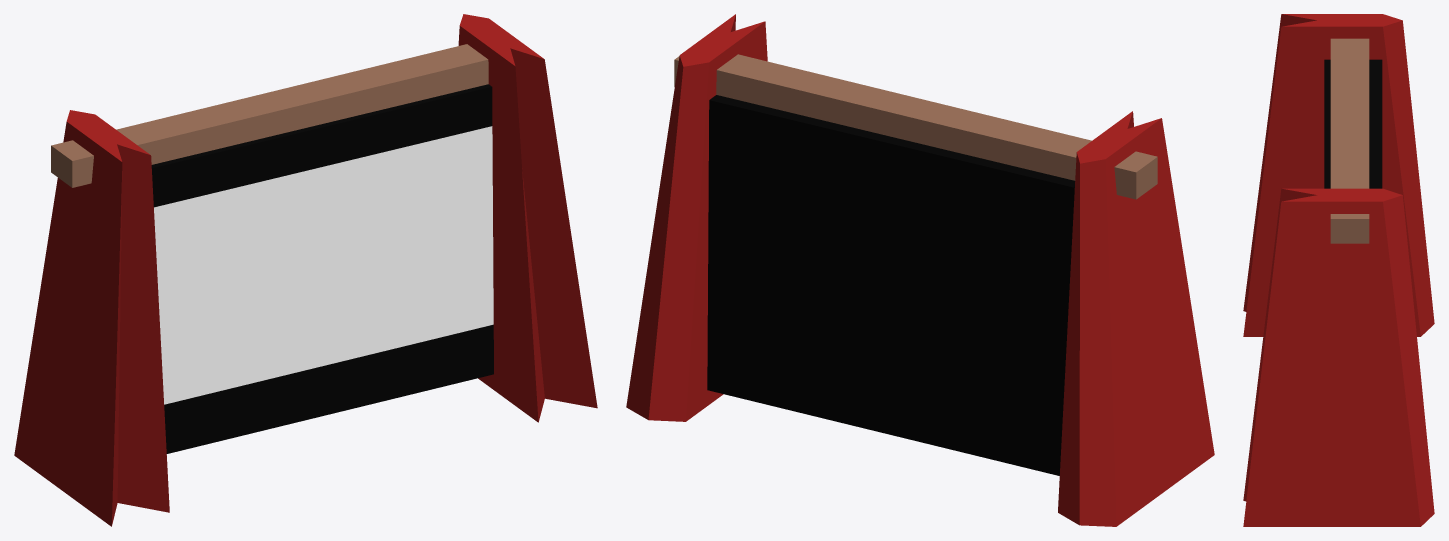
The picture shows the model from 3 angles, left to right: view 1: azimuth 30°, elevation 25°; view 2: azimuth 150°, elevation 25°; view 3: azimuth 270°, elevation 25°; orthographic projection. The views are drawn at different scales.
Visible parts, largest first — view 1: CinemaScreen, CurtainRight.001, CurtainRight, CurtainBar; view 2: CinemaScreen, CurtainRight.001, CurtainRight, CurtainBar; view 3: CurtainRight, CurtainRight.001, CurtainBar, CinemaScreen.
Part boxes in pixels (bbox=[...]): CinemaScreen: bbox=[151, 84, 493, 453]; CurtainRight.001: bbox=[14, 110, 169, 526]; CurtainRight: bbox=[458, 14, 597, 422]; CurtainBar: bbox=[51, 44, 488, 187]; CinemaScreen: bbox=[707, 95, 1075, 475]; CurtainRight.001: bbox=[1058, 111, 1214, 526]; CurtainRight: bbox=[626, 14, 767, 421]; CurtainBar: bbox=[674, 54, 1157, 199]; CurtainRight: bbox=[1243, 188, 1434, 526]; CurtainRight.001: bbox=[1243, 14, 1434, 336]; CurtainBar: bbox=[1330, 38, 1369, 243]; CinemaScreen: bbox=[1324, 59, 1382, 188].
Bounding box in the file's own units: 0.0702 × 0.0472 × 0.0263.
